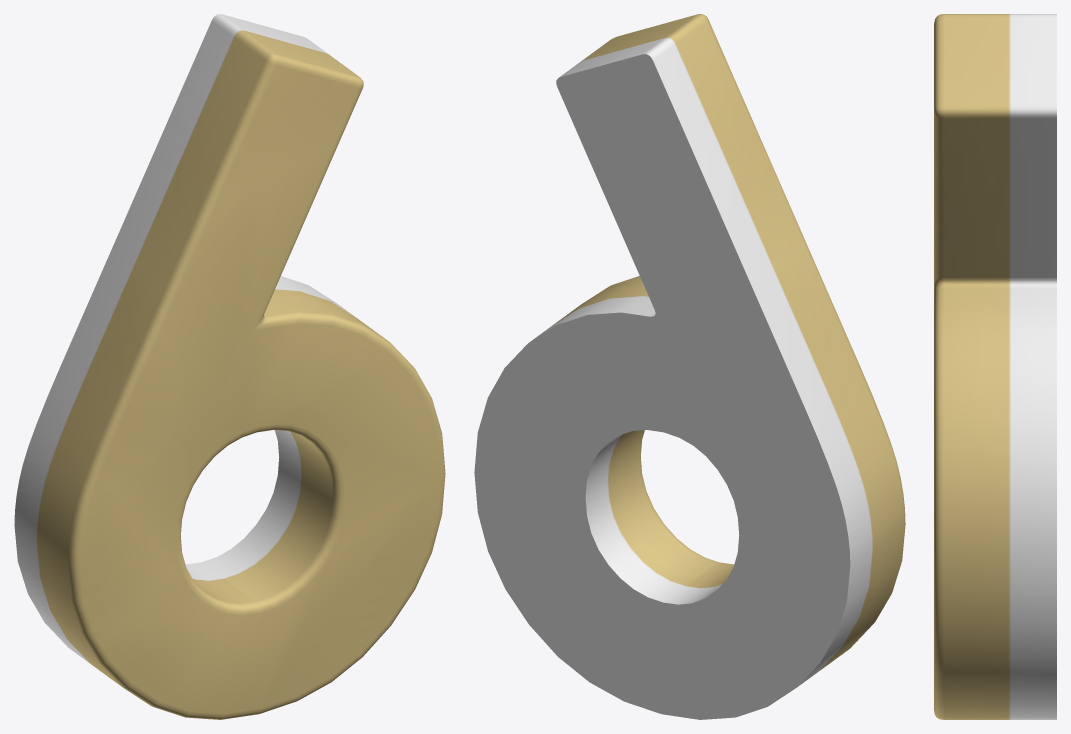
Rendered from LettersLightUp01_6.FBX.
3 renders of one model, left to right at view 1: azimuth 30°, elevation 25°; view 2: azimuth 150°, elevation 25°; view 3: azimuth 270°, elevation 25°, orthographic. The views are drawn at different scales.
Visible parts, largest first — view 1: LettersLightUp01_6; view 2: LettersLightUp01_6; view 3: LettersLightUp01_6.
Part boxes in pixels (bbox=[...]): LettersLightUp01_6: bbox=[14, 14, 445, 719]; LettersLightUp01_6: bbox=[474, 14, 905, 719]; LettersLightUp01_6: bbox=[934, 14, 1056, 719].
Size of what is drawn, in the model's own units: 0.3765 by 0.628 by 0.1012.
